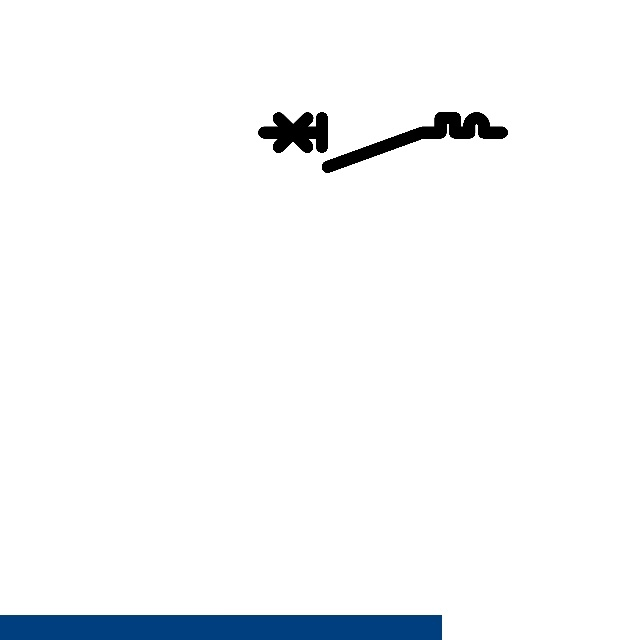interruptor_termomagnetico: (258, 112, 508, 173)
